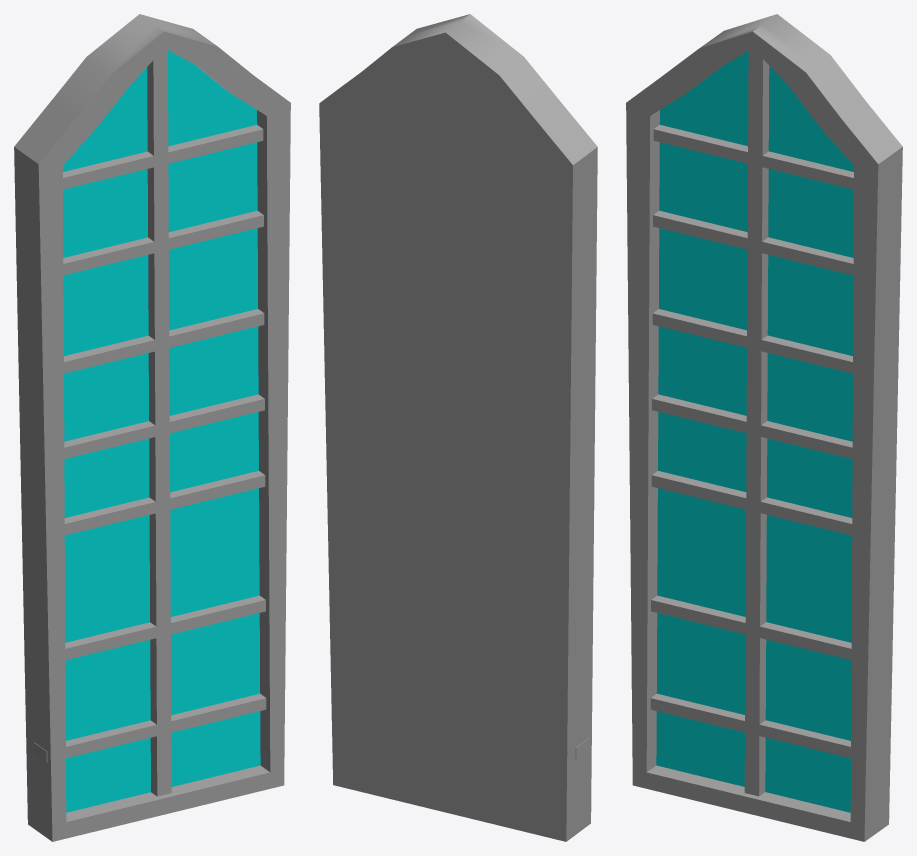
The model's file is Mod_Fenetre.fbx.
3 views of the same model, side by side, from view 1: azimuth 30°, elevation 25°; view 2: azimuth 150°, elevation 25°; view 3: azimuth 330°, elevation 25° (orthographic).
Visible parts, largest first — view 1: Mod_Fenetre; view 2: Mod_Fenetre; view 3: Mod_Fenetre.
Part boxes in pixels (<box>): Mod_Fenetre: <box>14,14,290,841</box>; Mod_Fenetre: <box>319,14,597,841</box>; Mod_Fenetre: <box>626,14,902,841</box>.
Size of the model in its own units: 161 by 476 by 31.78.
